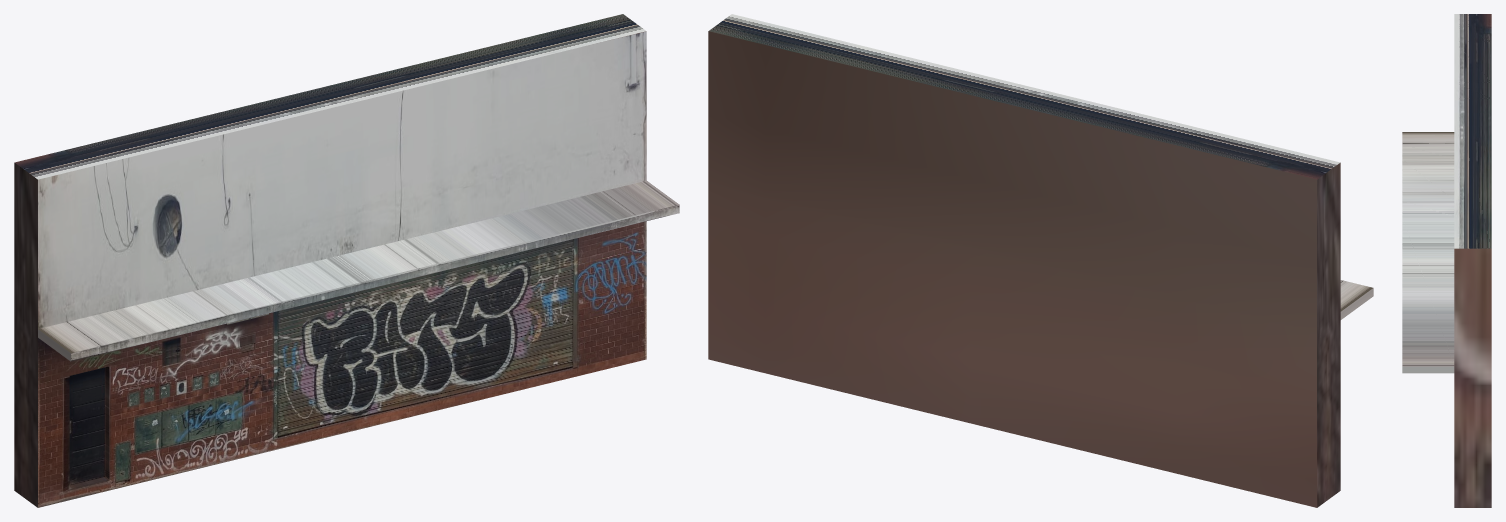
The model's file is rtspersianabalcon.fbx.
3 views of the same model, side by side, from view 1: azimuth 30°, elevation 25°; view 2: azimuth 150°, elevation 25°; view 3: azimuth 270°, elevation 25° (orthographic). The views are drawn at different scales.
Visible parts, largest first — view 1: Cube; view 2: Cube; view 3: Cube.
Boxes of the visible parts, x1,y1,x2,y2 form: Cube: [14, 14, 679, 507]; Cube: [708, 14, 1373, 507]; Cube: [1402, 14, 1491, 507].
Bounding box in the file's own units: 2997 × 1545 × 481.
